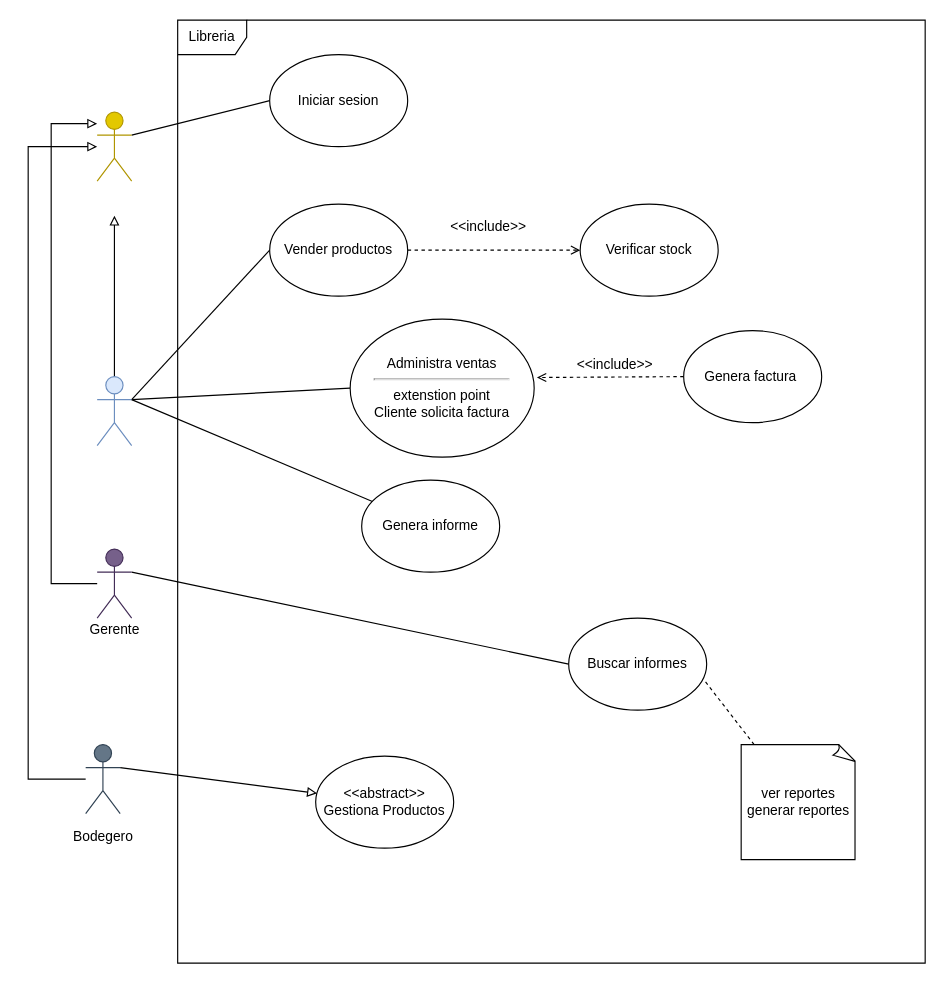
The diagram is 945 pixels wide and 983 high, and some of its shapes have lost their labels. Each missing label, with the centre of its shape:
Usuario: the point at 114,146
Vendedor: the point at 114,410
